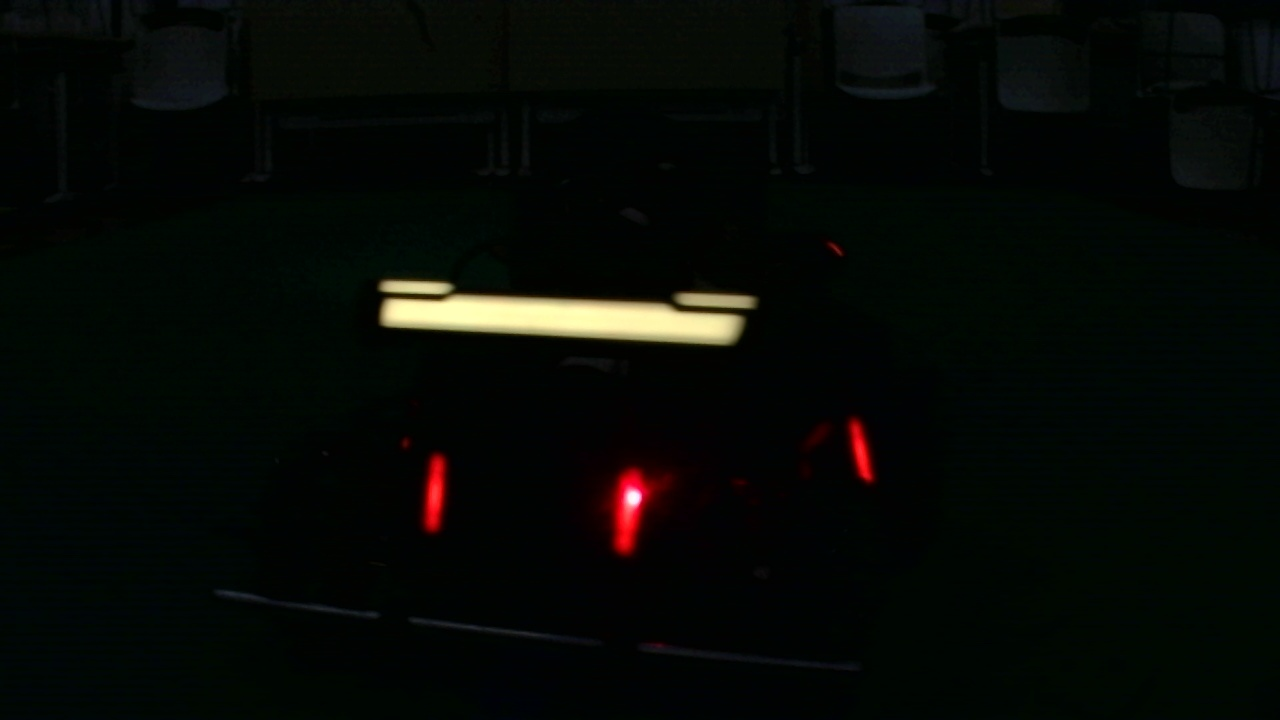lamp: (605, 449, 646, 562), (421, 452, 450, 539), (844, 410, 876, 487)
notpair1: (608, 410, 878, 560)
pair1: (419, 451, 644, 559)
